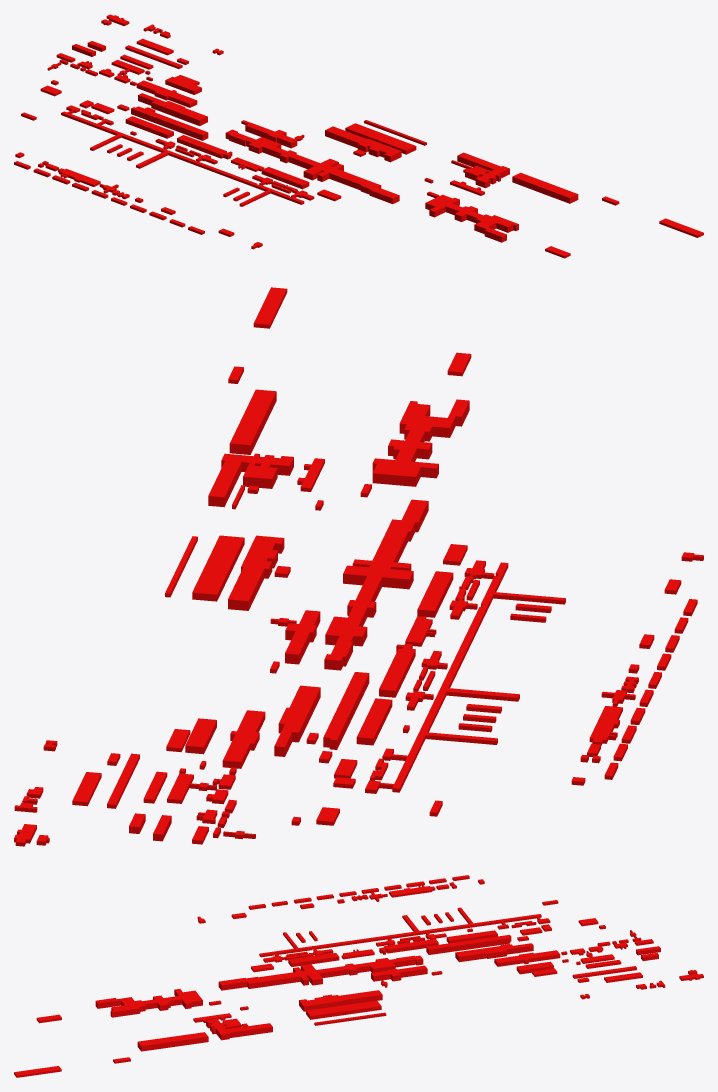
The picture shows the model from 3 angles, top to bottom: view 1: azimuth 30°, elevation 25°; view 2: azimuth 150°, elevation 25°; view 3: azimuth 270°, elevation 25°; orthographic projection. The views are drawn at different scales.
Parts seen in each view (by area): view 1: 1903; view 2: 1903; view 3: 1903.
Boxes of the visible parts, left/top/right/bottom form: 1903: left=14, top=14, right=703, bottom=258; 1903: left=14, top=287, right=703, bottom=846; 1903: left=14, top=875, right=703, bottom=1077.
Size of the model in its own units: 1229 by 15.25 by 1786.
